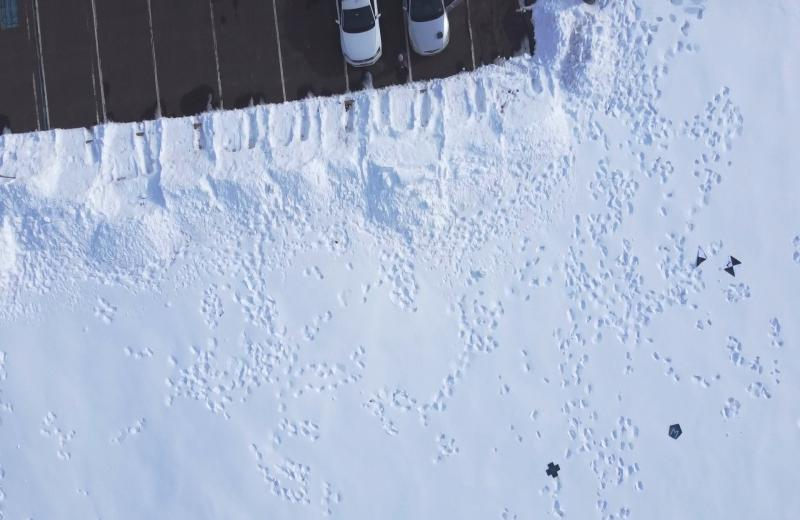Cross: (544, 460, 562, 480)
Pentagon: (666, 422, 682, 441)
